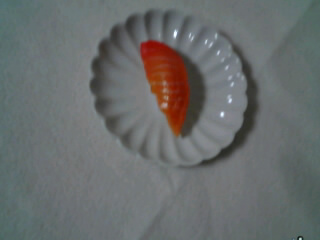002_classes: (126, 34, 198, 142)
